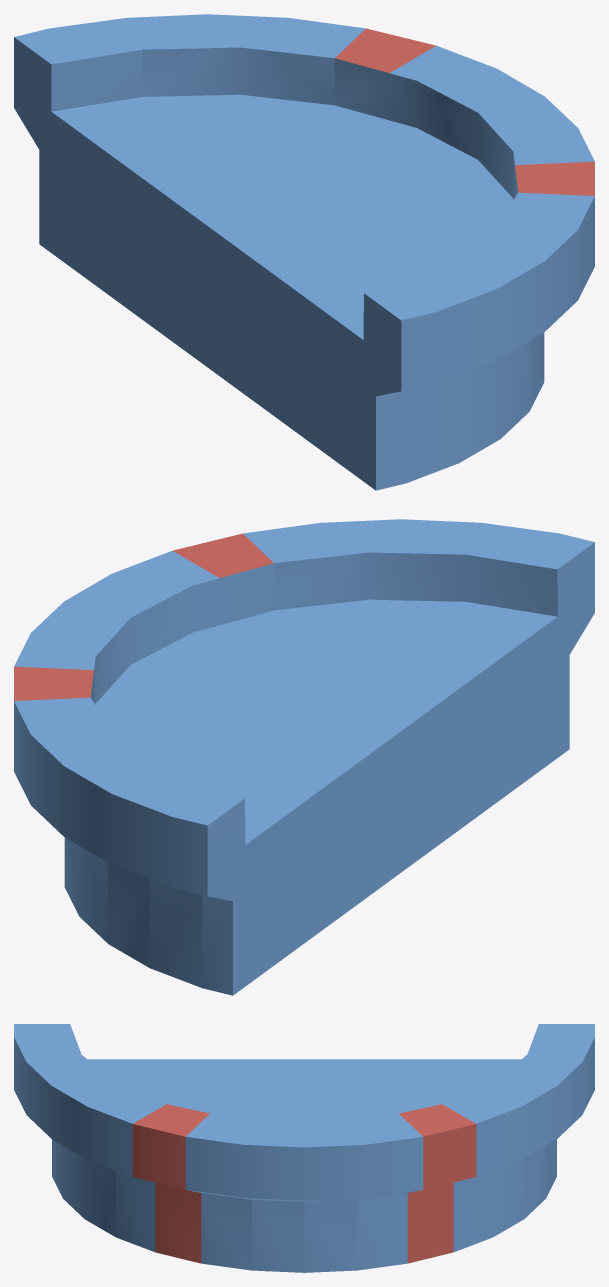
File: br-m-pipe-aquaA.fbx
3 views of the same model, one above another, from view 1: azimuth 30°, elevation 25°; view 2: azimuth 150°, elevation 25°; view 3: azimuth 270°, elevation 25° (orthographic). The views are drawn at different scales.
Visible parts, largest first — view 1: pipeA_aqua_m; view 2: pipeA_aqua_m; view 3: pipeA_aqua_m.
Boxes of the visible parts, box(x1,y1,x2,y2) form: pipeA_aqua_m: box(14, 14, 594, 490); pipeA_aqua_m: box(14, 519, 594, 995); pipeA_aqua_m: box(14, 1024, 594, 1272).
Size of the model in its own units: 93.53 by 50 by 186.
